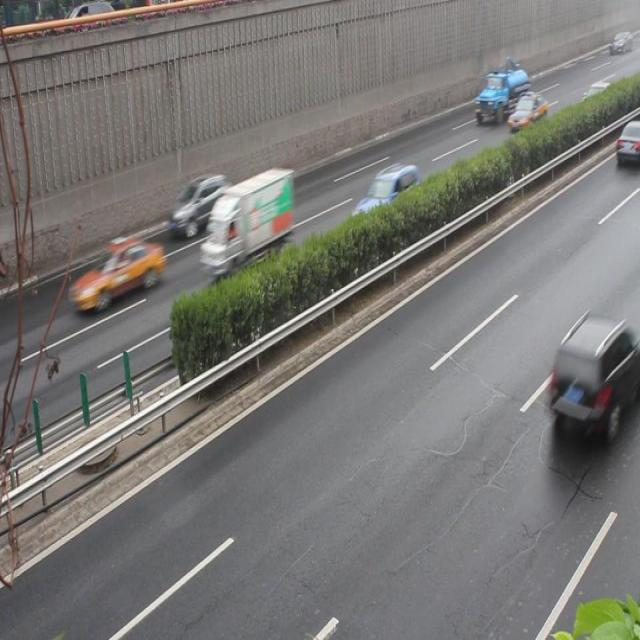car: (548, 315, 639, 435), (67, 235, 161, 308), (348, 160, 421, 229), (167, 172, 231, 232), (572, 81, 614, 123), (506, 90, 546, 129), (613, 118, 639, 170)
